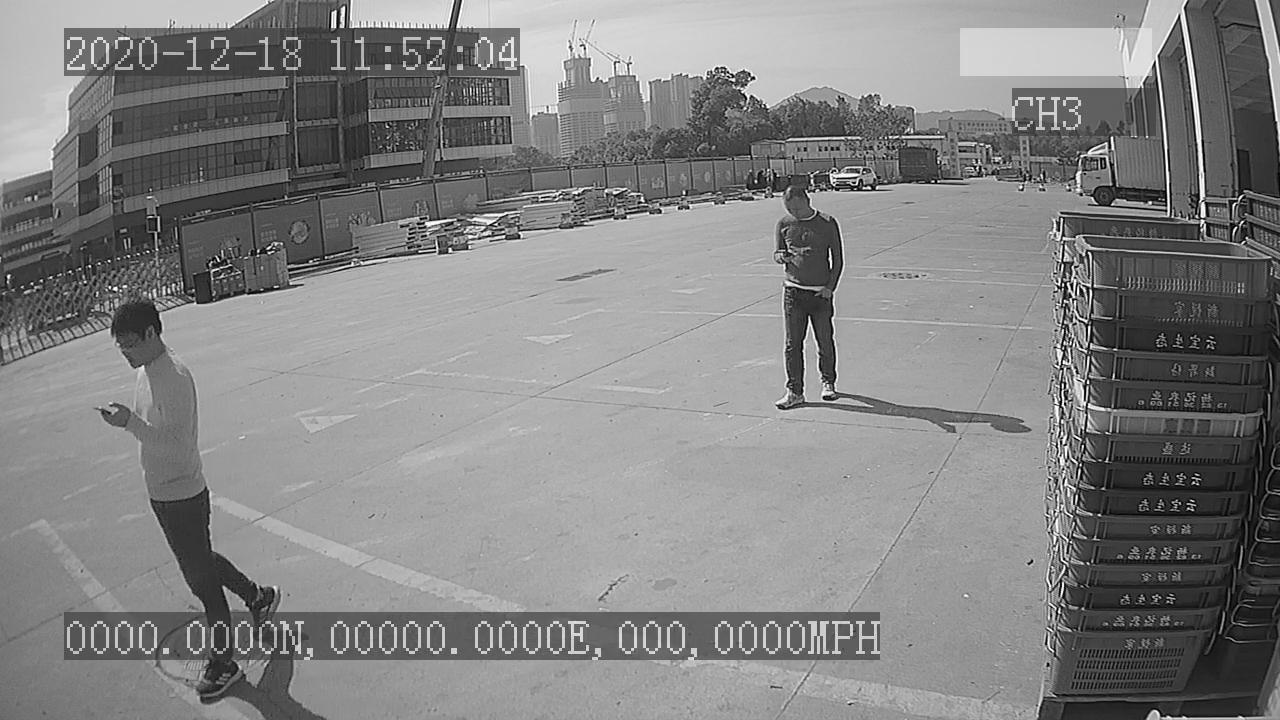person: (759, 177, 859, 415)
